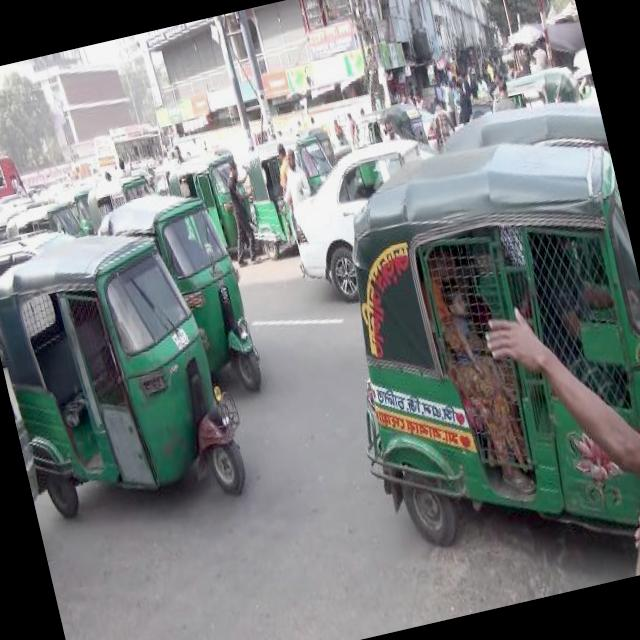bus: (90, 120, 168, 188), (0, 143, 33, 218)
car: (275, 128, 464, 308), (0, 210, 102, 364), (414, 95, 451, 148)
motorcycle: (307, 111, 640, 582), (0, 209, 258, 554), (88, 168, 272, 434), (229, 120, 351, 266), (436, 88, 608, 184), (164, 138, 260, 277), (348, 92, 433, 166), (488, 59, 585, 120), (1, 193, 84, 263), (84, 166, 158, 221), (286, 110, 343, 177), (0, 195, 34, 263), (70, 182, 100, 242)
